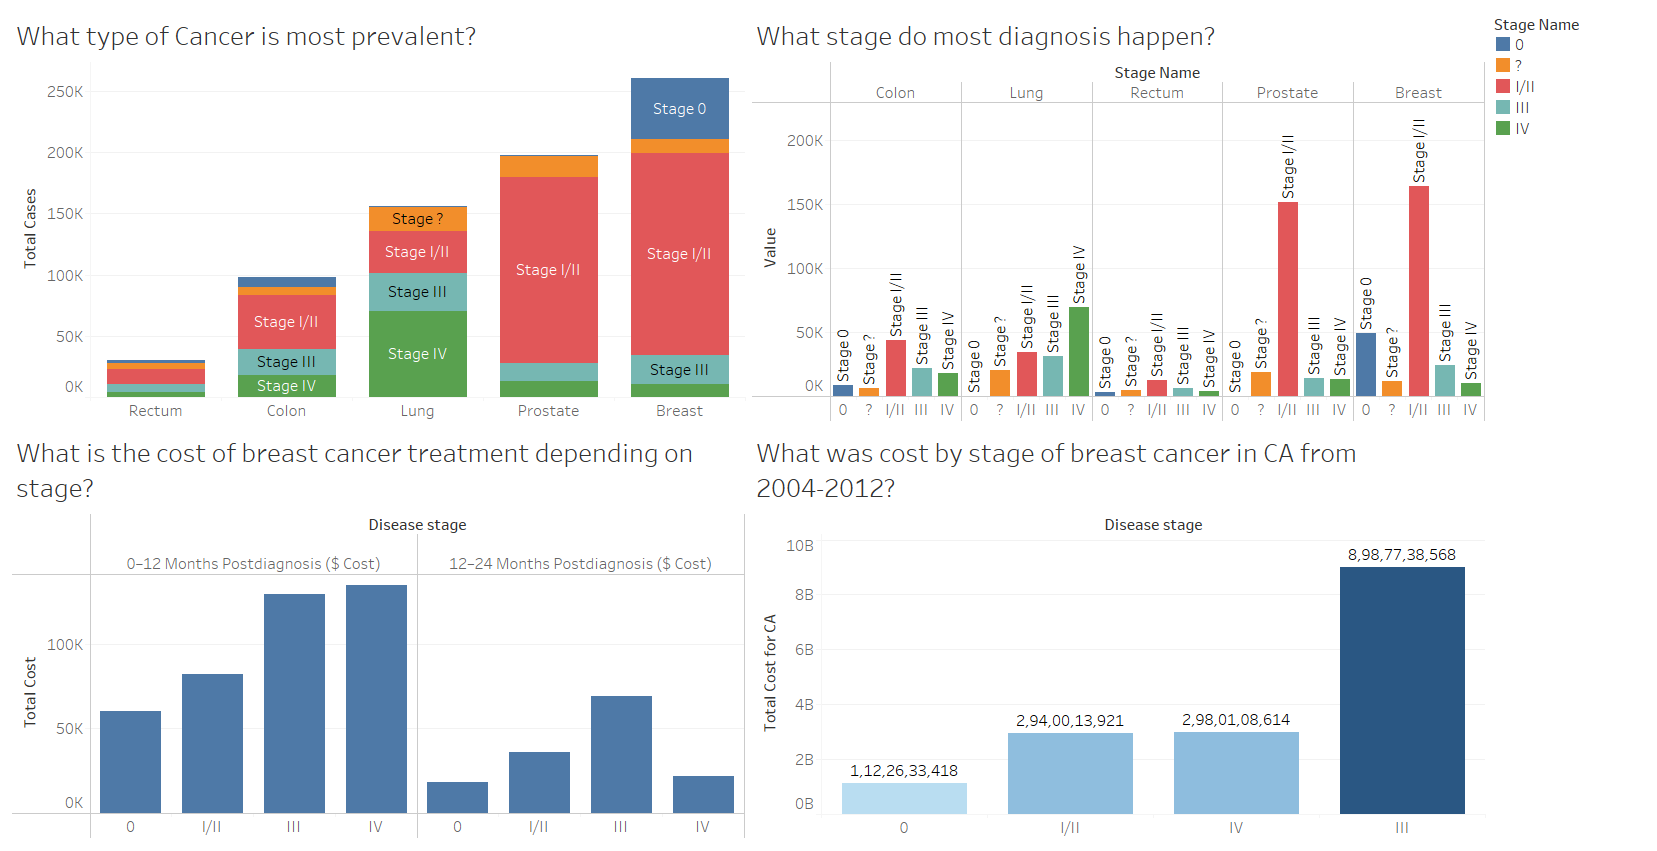

The page's visual inventory and layout, read from the dashboard file:
{"tool":"tableau","page":{"name":"Visualizing Different Cancer Cost","canvas":[1000,1000],"units":"permille","ordinal":0},"visuals":[{"type":"worksheet","title":"Cancer Prevalence","mark":"Automatic","box":[4.8,9.4,446.9,490.6]},{"type":"worksheet","title":"Cancer Stage Diagnosis ","mark":"Automatic","cols":["Stage Name"],"box":[451.7,9.4,446.9,490.6]},{"type":"legend","title":"Cancer Prevalence","param":"[federated.190k9jd0ah088m11btp5t112ap3i].[none:Stage Name:nk]","box":[898.6,9.4,96.6,158.6]},{"type":"worksheet","title":"Breast Cancer Costs","mark":"Automatic","cols":["Disease stage"],"box":[4.8,500,446.9,490.6]},{"type":"worksheet","title":"Total Cost for California","mark":"Automatic","rows":["Calculation_4235916984663515137"],"cols":["Disease stage"],"box":[451.7,500,446.9,490.6]}]}

Visuals, with their boxes on the dashboard's canvas, which has no fixed pixel size, in thousandths of its width and height (x1, y1, x2, y2). These are canvas units, not pixel positions in the 1657x851 screenshot, which may show the page scaled, cropped or inside an application window:
"Cancer Prevalence" worksheet: Rect(5, 9, 452, 500)
"Cancer Stage Diagnosis " worksheet: Rect(452, 9, 899, 500)
"Cancer Prevalence" legend: Rect(899, 9, 995, 168)
"Breast Cancer Costs" worksheet: Rect(5, 500, 452, 991)
"Total Cost for California" worksheet: Rect(452, 500, 899, 991)
